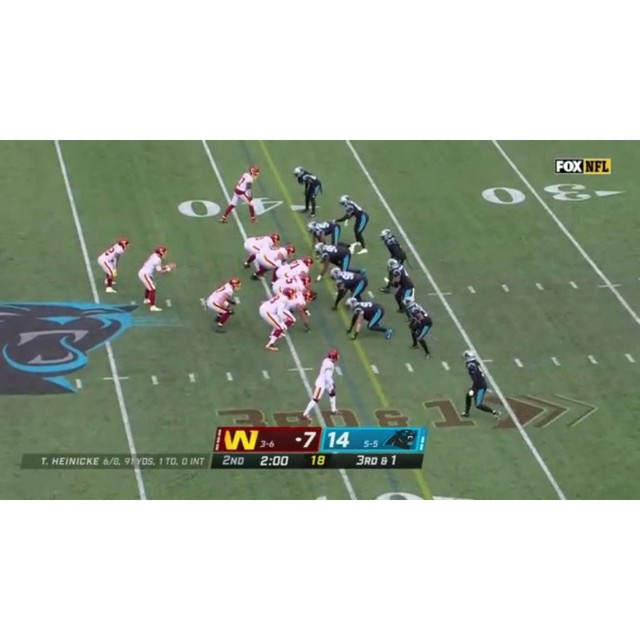american-football-player: (462, 350, 503, 422), (302, 350, 341, 421), (219, 165, 260, 225), (138, 246, 175, 312), (260, 287, 296, 351), (345, 297, 392, 342), (203, 277, 242, 331), (336, 195, 370, 252), (383, 258, 416, 315), (403, 297, 433, 359), (97, 238, 129, 294), (314, 242, 357, 282), (330, 268, 367, 311), (254, 243, 295, 281), (292, 166, 322, 217), (241, 232, 280, 269), (285, 289, 316, 334), (306, 218, 341, 250), (380, 228, 407, 267), (272, 273, 308, 297)
